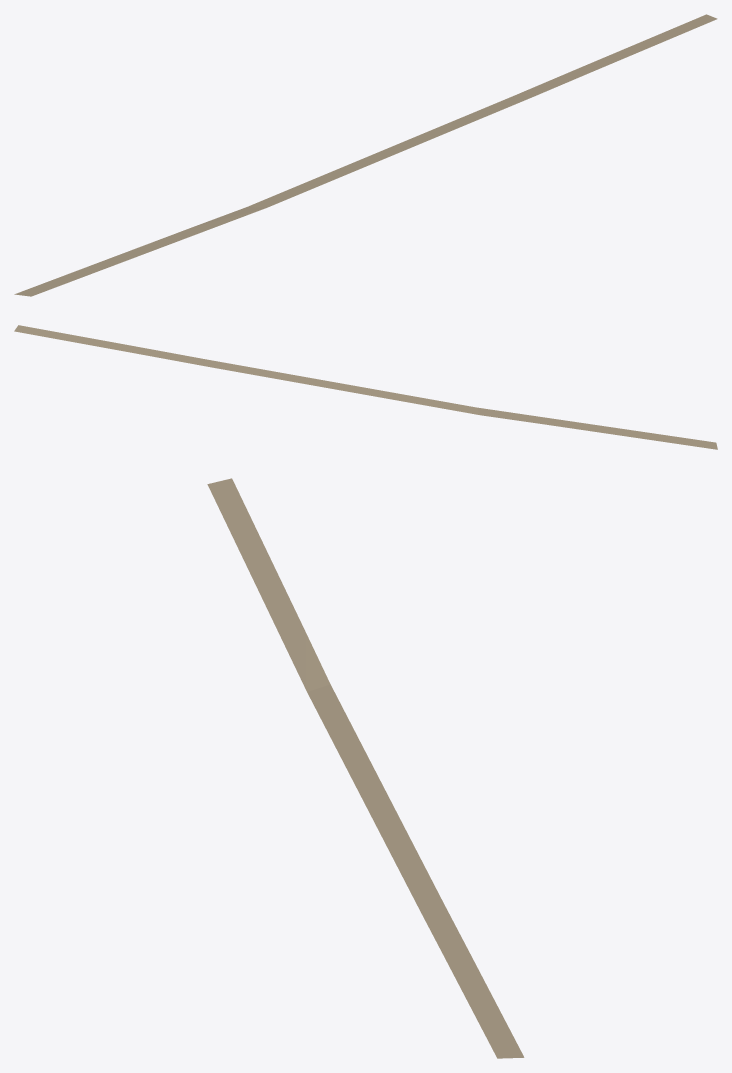
The model's file is farm_-11_-7_track.glb.
3 views of the same model, one above another, from view 1: azimuth 30°, elevation 25°; view 2: azimuth 150°, elevation 25°; view 3: azimuth 270°, elevation 25° (orthographic). The views are drawn at different scales.
Visible parts, largest first — view 1: geometry_0; view 2: geometry_0; view 3: geometry_0.
Boxes of the visible parts, x1=… form: geometry_0: x1=14, y1=14, x2=717, y2=296; geometry_0: x1=14, y1=325, x2=717, y2=449; geometry_0: x1=207, y1=478, x2=524, y2=1058.
Bounding box in the file's own units: 173 × 4.91 × 37.47.
